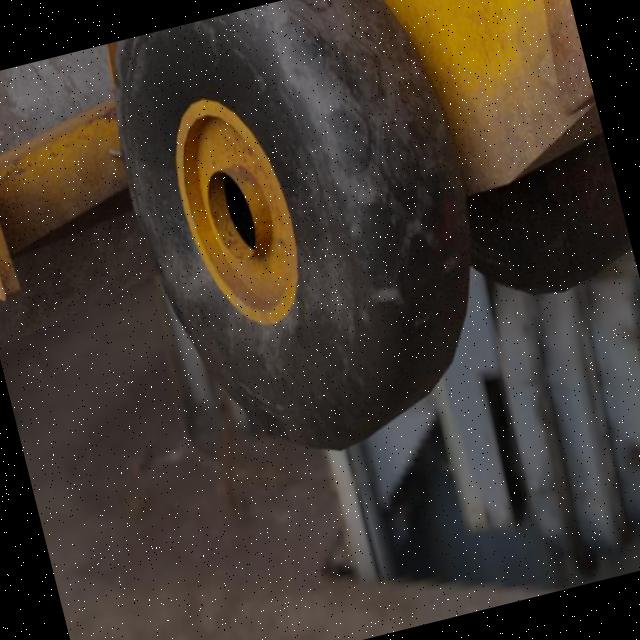Roller: (0, 0, 640, 527)
